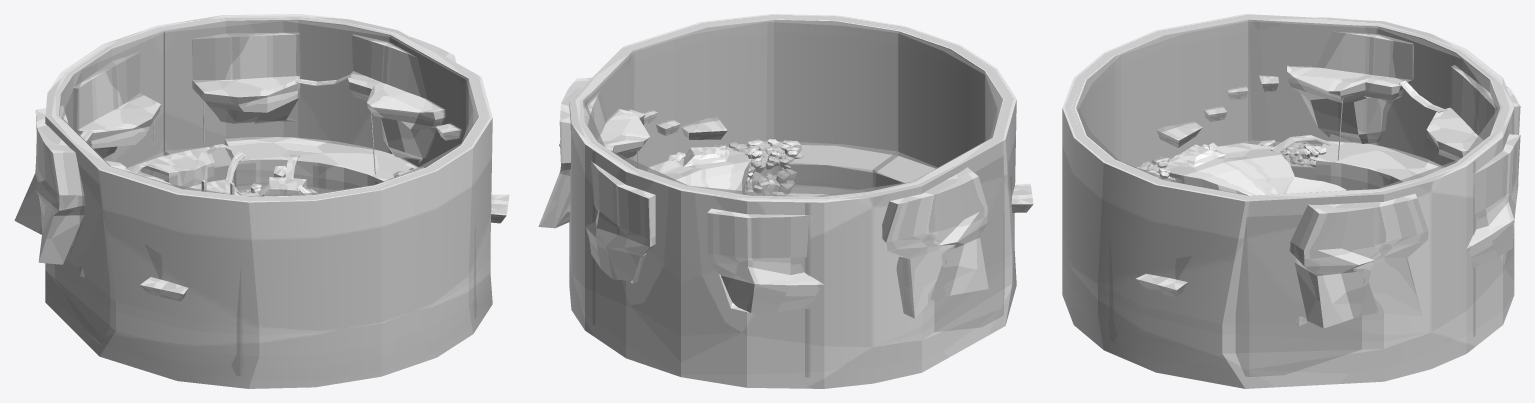
File: LevelDesign_new_03..fbx
The picture shows the model from 3 angles, left to right: view 1: azimuth 30°, elevation 25°; view 2: azimuth 150°, elevation 25°; view 3: azimuth 270°, elevation 25°; orthographic projection.
Parts seen in each view (by area): view 1: polySurface824, polySurface822, polySurface784, polySurface790, polySurface785, polySurface797, polySurface795, polySurface779; view 2: polySurface824, polySurface822, polySurface780, polySurface790, polySurface786; view 3: polySurface824, polySurface822, polySurface792, polySurface796, polySurface802, polySurface797, polySurface798, polySurface786.
Part boxes in pixels (<box>): polySurface824: <box>14,14,506,388</box>; polySurface822: <box>55,21,478,376</box>; polySurface784: <box>225,136,418,181</box>; polySurface790: <box>348,71,443,112</box>; polySurface785: <box>193,76,299,97</box>; polySurface797: <box>78,93,160,132</box>; polySurface795: <box>145,147,214,172</box>; polySurface779: <box>184,179,241,195</box>; polySurface824: <box>538,14,1032,388</box>; polySurface822: <box>583,21,1011,377</box>; polySurface780: <box>647,151,749,192</box>; polySurface790: <box>597,109,649,151</box>; polySurface786: <box>681,117,727,132</box>; polySurface824: <box>1062,14,1520,388</box>; polySurface822: <box>1076,21,1500,376</box>; polySurface792: <box>1166,143,1345,195</box>; polySurface796: <box>1316,140,1444,180</box>; polySurface802: <box>1287,66,1411,91</box>; polySurface797: <box>1426,107,1483,151</box>; polySurface798: <box>1157,121,1202,140</box>; polySurface786: <box>1136,273,1187,290</box>.
Bounding box in the file's own units: 86.77 × 37.58 × 80.34.
